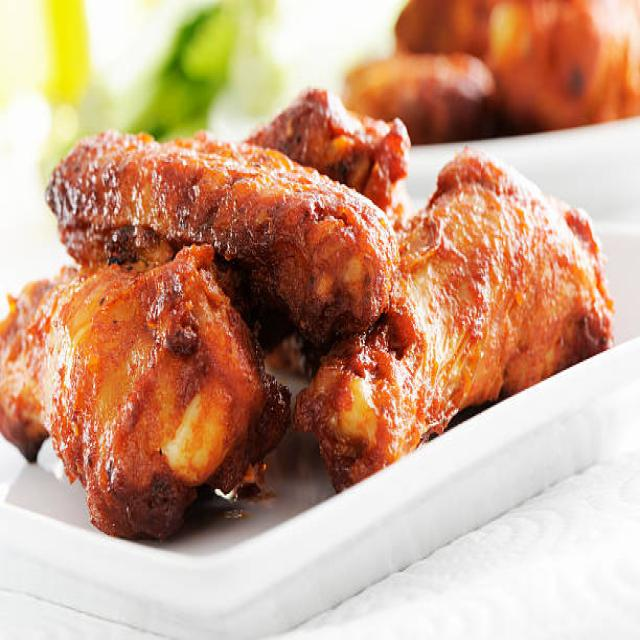Frango: (0, 84, 615, 538)
